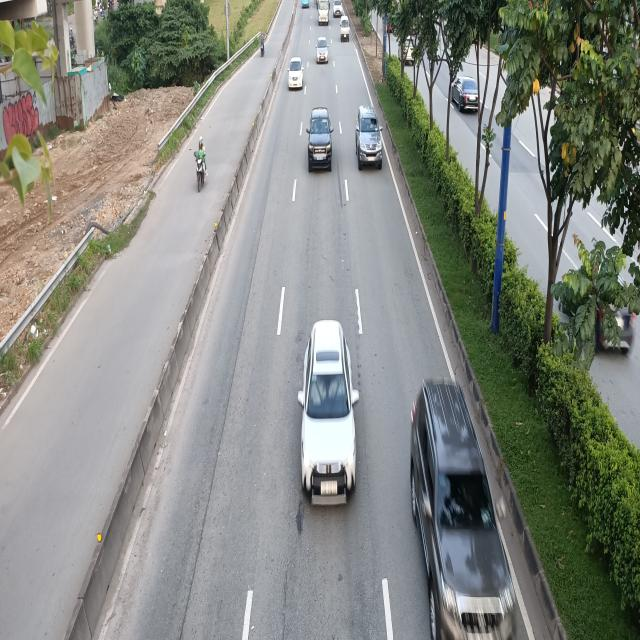car: (410, 378, 518, 636), (298, 320, 358, 505), (354, 105, 383, 168), (308, 105, 334, 172), (286, 55, 304, 89), (315, 36, 329, 63), (333, 0, 342, 17)
truck: (317, 0, 330, 24)
van: (340, 16, 350, 42)
